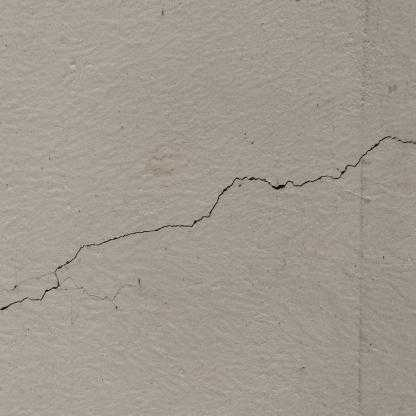crack: (4, 130, 413, 316)
